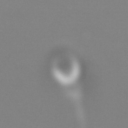abnormal: (58, 86, 95, 128)
